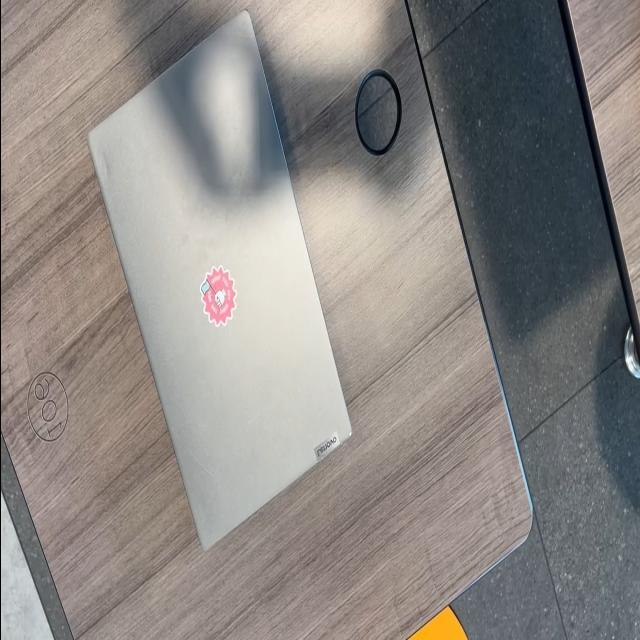laptop: (86, 8, 353, 551)
